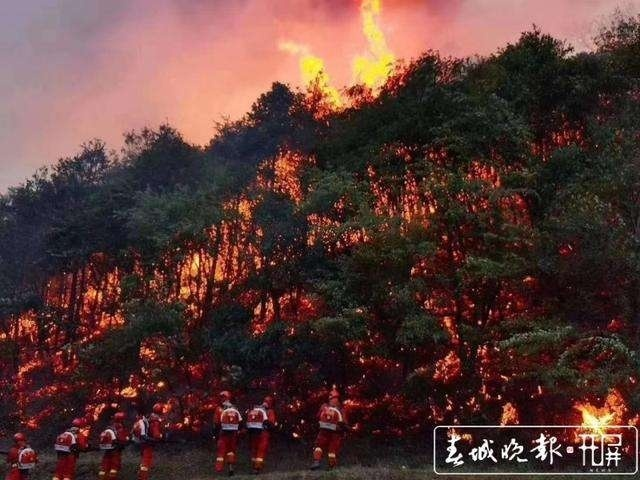fire: (277, 4, 402, 115), (574, 387, 634, 444)
